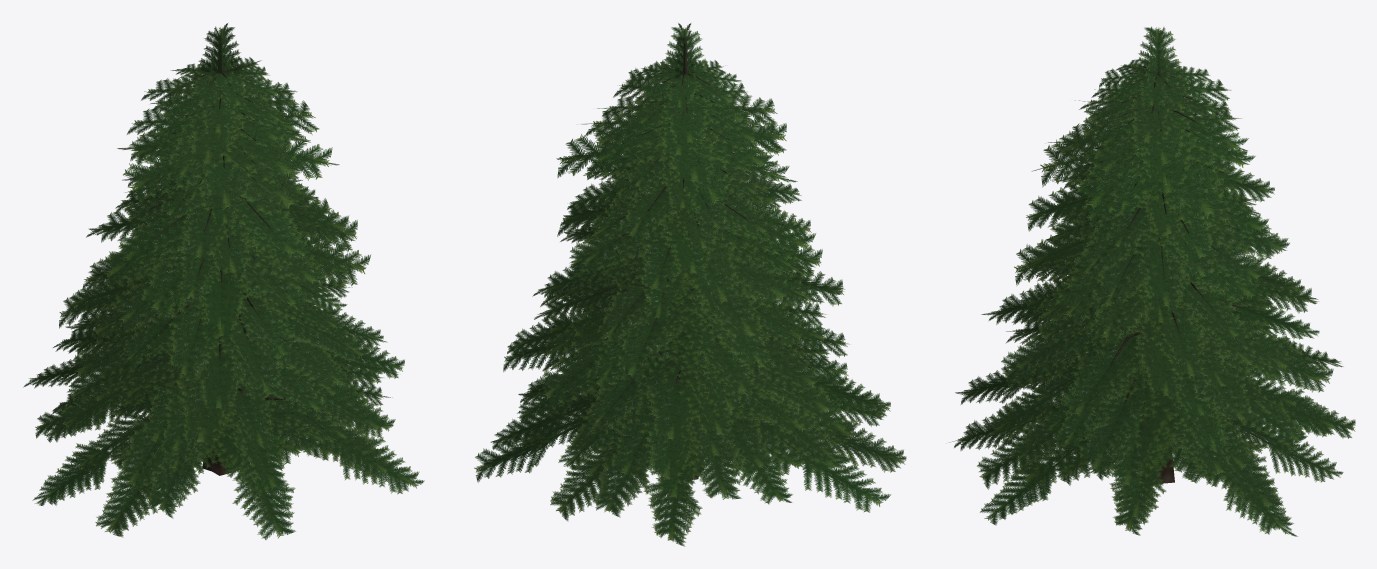
The model's file is tree_conifer_b.glb.
3 views of the same model, side by side, from view 1: azimuth 30°, elevation 25°; view 2: azimuth 150°, elevation 25°; view 3: azimuth 270°, elevation 25° (orthographic). The views are drawn at different scales.
Parts seen in each view (by area): view 1: tree_conifer_b_leaves, tree_conifer_b; view 2: tree_conifer_b_leaves, tree_conifer_b; view 3: tree_conifer_b_leaves, tree_conifer_b.
Boxes of the visible parts, x1,y1,x2,y2 form: tree_conifer_b_leaves: (23, 23, 424, 539); tree_conifer_b: (62, 37, 368, 480); tree_conifer_b_leaves: (474, 23, 906, 546); tree_conifer_b: (510, 38, 861, 493); tree_conifer_b_leaves: (949, 26, 1355, 536); tree_conifer_b: (990, 58, 1308, 501).
Bounding box in the file's own units: 7.17 × 8.49 × 7.18.
Materials: 2 (2 with a texture image).
